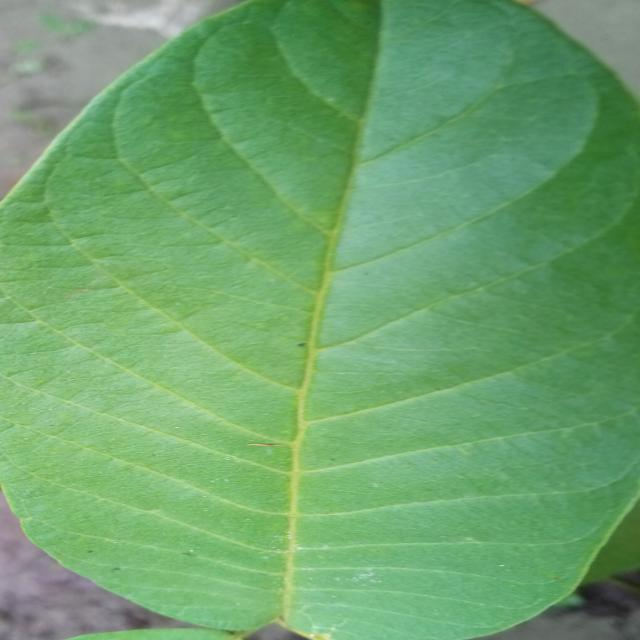Disease Free: (2, 0, 637, 640)
